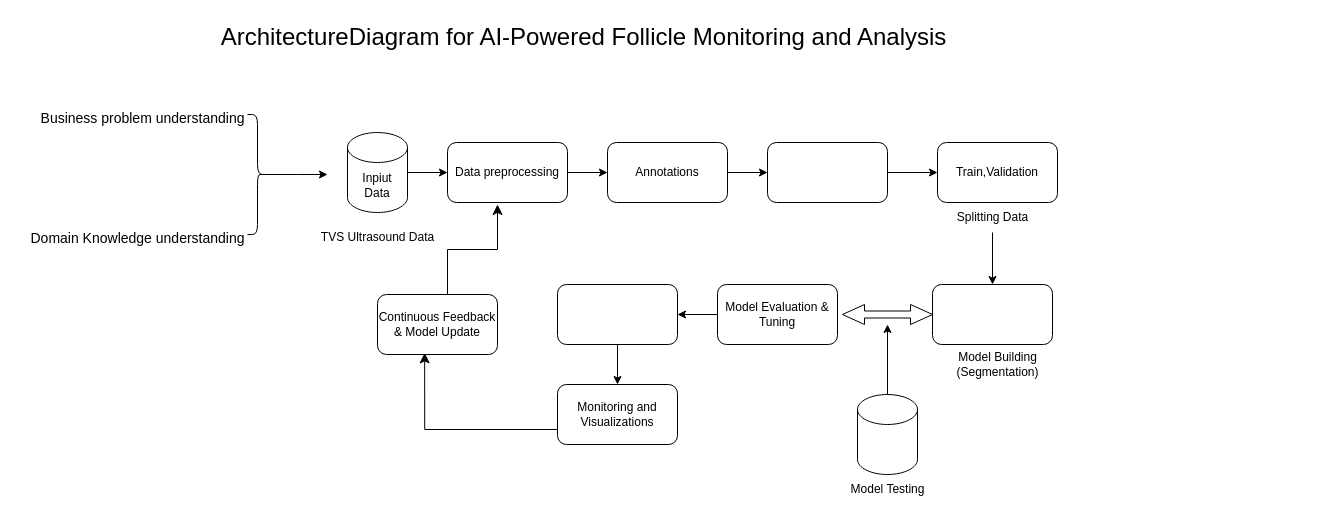
Some shapes in this 1334 by 521 pixel diagram are drawn without their labels. Each missing label, with the centre of its shape:
Data Augmentation: the point at 827,172
Model Deployment: the point at 617,314
Test Data: the point at 887,434
YOLOV8 S: the point at 992,314
